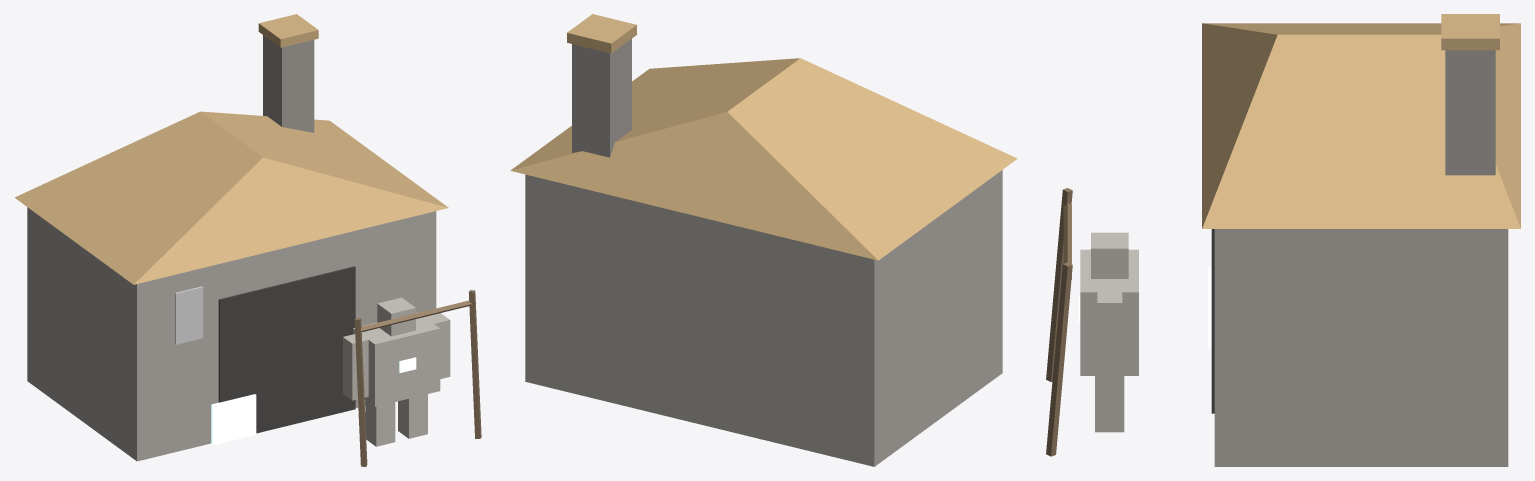
The picture shows the model from 3 angles, left to right: view 1: azimuth 30°, elevation 25°; view 2: azimuth 150°, elevation 25°; view 3: azimuth 270°, elevation 25°; orthographic projection. The views are drawn at different scales.
Visible parts, largest first — view 1: body; view 2: body; view 3: body.
Part boxes in pixels (x1,y1,x2,y2): body: [14, 14, 481, 466]; body: [510, 14, 1017, 466]; body: [1046, 14, 1520, 466].
Bounding box in the file's own units: 11.6 × 10.71 × 11.32.
